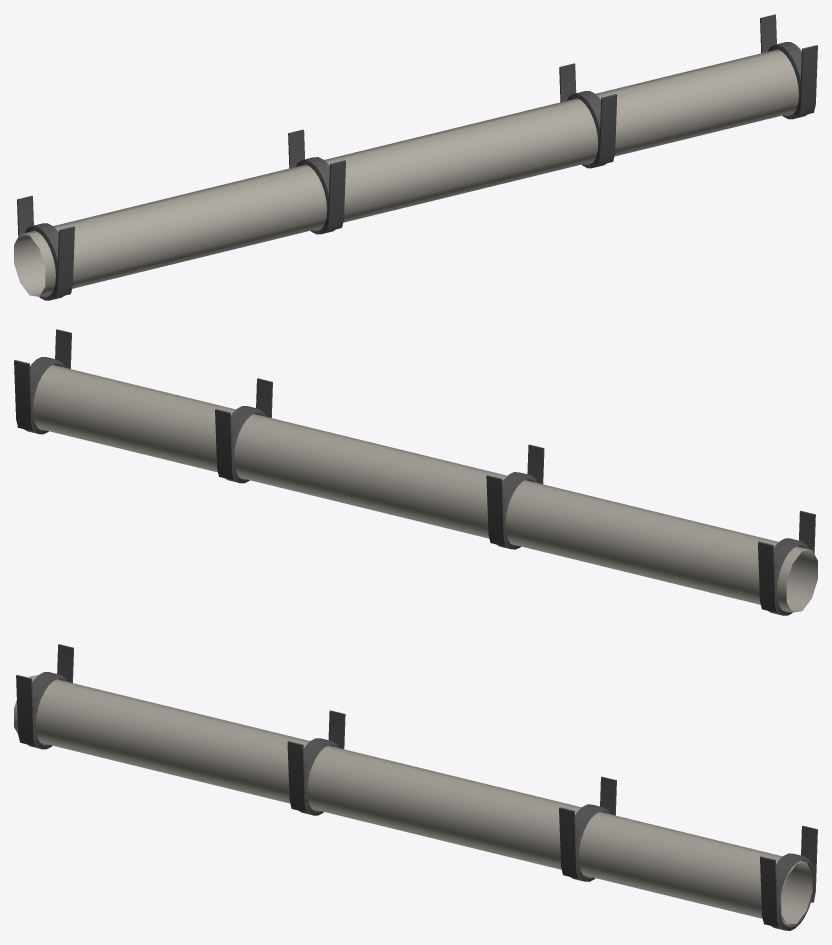
The model's file is roof_pipe_02.fbx.
3 renders of one model, top to bottom at view 1: azimuth 30°, elevation 25°; view 2: azimuth 150°, elevation 25°; view 3: azimuth 330°, elevation 25°, orthographic.
Parts seen in each view (by area): view 1: roof_pipe_02; view 2: roof_pipe_02; view 3: roof_pipe_02.
Part boxes in pixels (left/top/right/bottom): roof_pipe_02: left=14, top=14, right=817, bottom=300; roof_pipe_02: left=14, top=329, right=817, bottom=615; roof_pipe_02: left=14, top=644, right=817, bottom=930.
Size of the model in its own units: 333 by 34.74 by 32.3.
